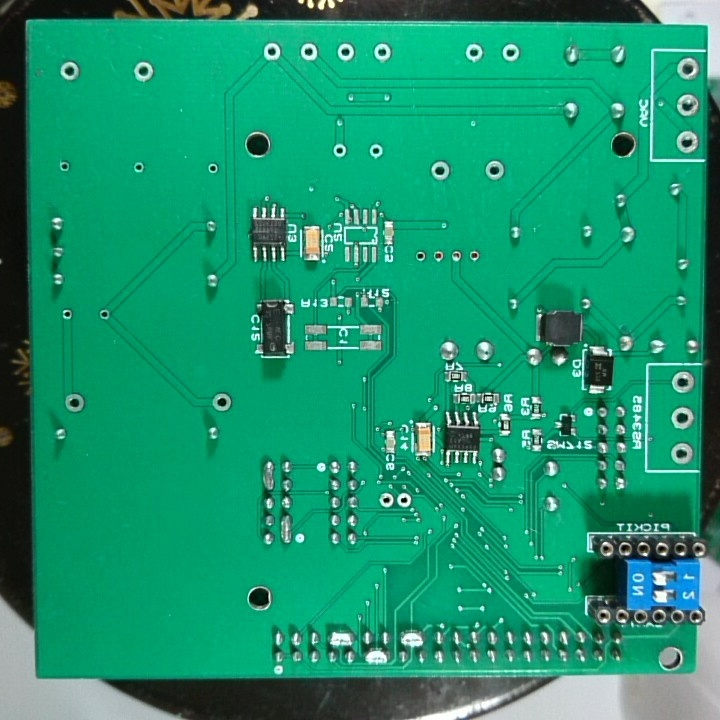F: (674, 55, 702, 83), (670, 405, 695, 434), (674, 129, 701, 155), (670, 369, 697, 395), (674, 92, 700, 118), (131, 60, 157, 86), (669, 441, 696, 466), (62, 390, 88, 415), (209, 390, 234, 415), (57, 60, 82, 84), (260, 40, 284, 64), (483, 158, 506, 183), (428, 158, 451, 183), (371, 41, 394, 66), (463, 40, 486, 65), (499, 41, 522, 65), (335, 39, 357, 64), (298, 40, 319, 63), (394, 489, 414, 512), (329, 141, 348, 161), (377, 490, 395, 511), (366, 141, 382, 160), (449, 246, 463, 266), (57, 158, 73, 175), (131, 158, 147, 175), (467, 247, 482, 265), (59, 307, 75, 323), (96, 306, 112, 322), (205, 160, 220, 177), (414, 249, 428, 265), (431, 249, 445, 264)
P: (259, 458, 279, 491), (325, 629, 357, 649), (278, 512, 295, 548), (397, 628, 425, 649), (361, 648, 391, 666)
